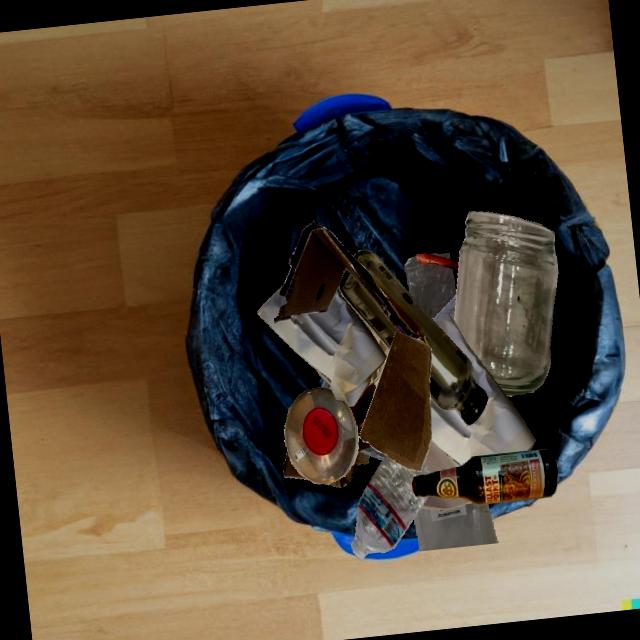biowaste: (416, 252, 458, 270)
cardboard: (274, 220, 421, 338), (359, 331, 432, 471), (324, 450, 369, 488), (283, 450, 308, 479)
glass: (352, 249, 487, 425), (454, 211, 558, 396), (411, 449, 557, 504), (338, 269, 398, 350), (347, 381, 376, 451)
paper: (430, 314, 535, 467), (257, 284, 386, 406), (389, 318, 431, 497)
plastic: (323, 307, 387, 455), (351, 455, 430, 560), (284, 387, 358, 483), (414, 501, 497, 551), (404, 255, 456, 318), (431, 294, 456, 321)
